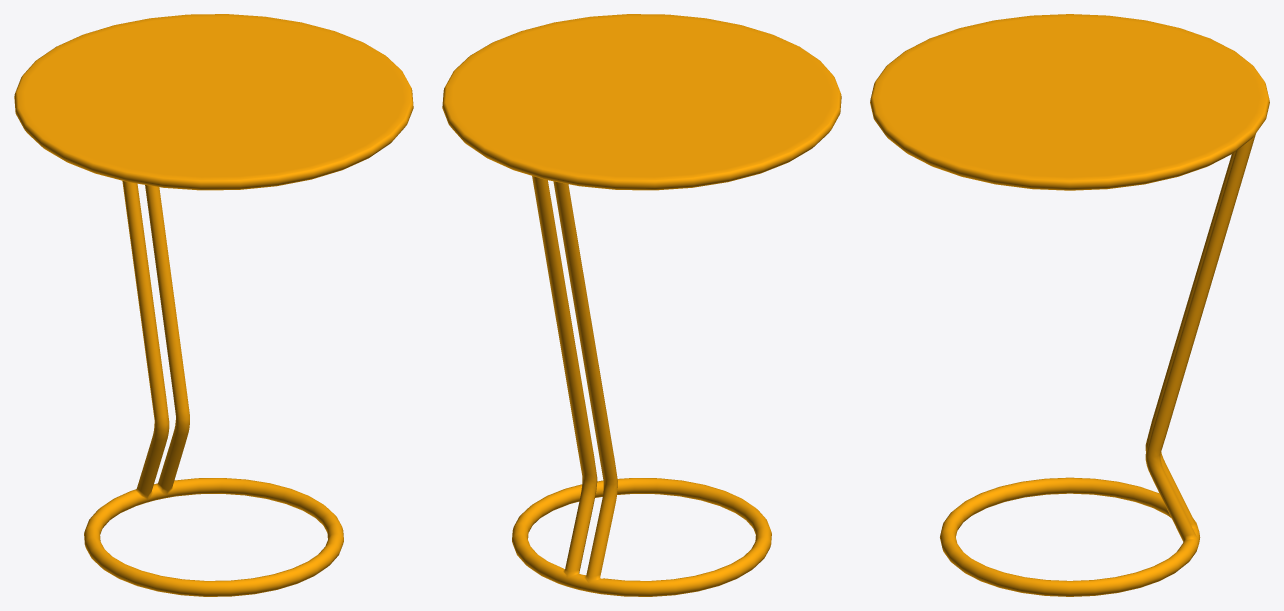
Rendered from Table.gltf.
3 renders of one model, left to right at view 1: azimuth 30°, elevation 25°; view 2: azimuth 150°, elevation 25°; view 3: azimuth 270°, elevation 25°, orthographic.
Visible parts, largest first — view 1: Chocofur_Free_Table_03; view 2: Chocofur_Free_Table_03; view 3: Chocofur_Free_Table_03.
Boxes of the visible parts, x1,y1,x2,y2 form: Chocofur_Free_Table_03: [14, 14, 413, 596]; Chocofur_Free_Table_03: [442, 14, 841, 596]; Chocofur_Free_Table_03: [870, 14, 1269, 596].
Size of the model in its own units: 0.5992 by 0.7397 by 0.5992.
